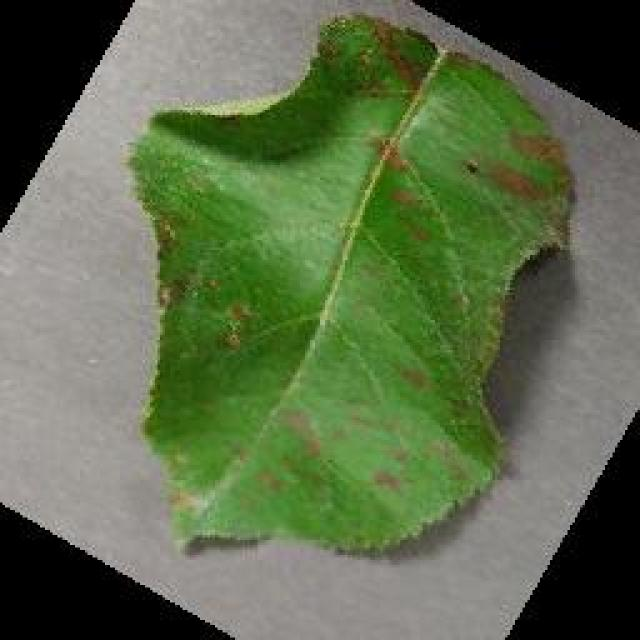apple cedar apple rust: (122, 10, 578, 558)
